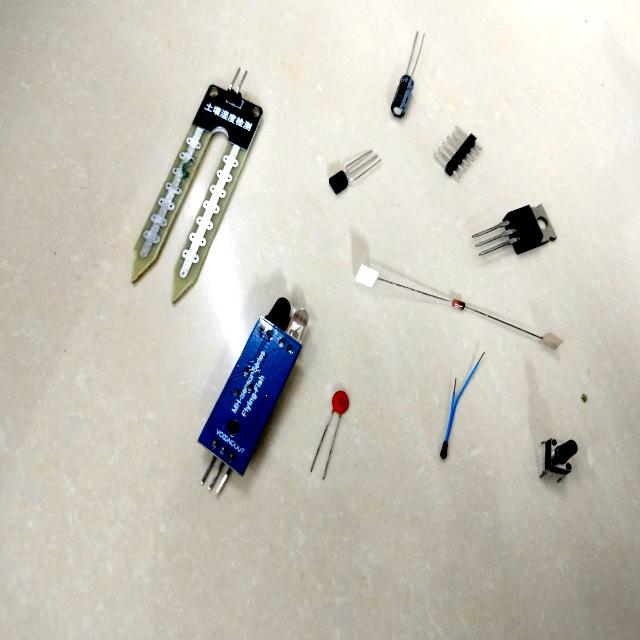BJT-Transistor: (319, 138, 393, 207)
Capacitor-10mf: (381, 31, 430, 125)
IR-Sensor: (174, 274, 316, 503)
Low-Voltage-Ceramic-Capacitor: (305, 378, 354, 486)
MOSFET: (468, 192, 562, 279)
NTC-Thermistor: (430, 343, 494, 480)
Pin-Header: (430, 107, 487, 190)
Soil-Moisture-Sensor: (106, 43, 276, 324)
Tact-Switch: (524, 425, 584, 496)
Zener-Diode: (378, 262, 542, 363)
